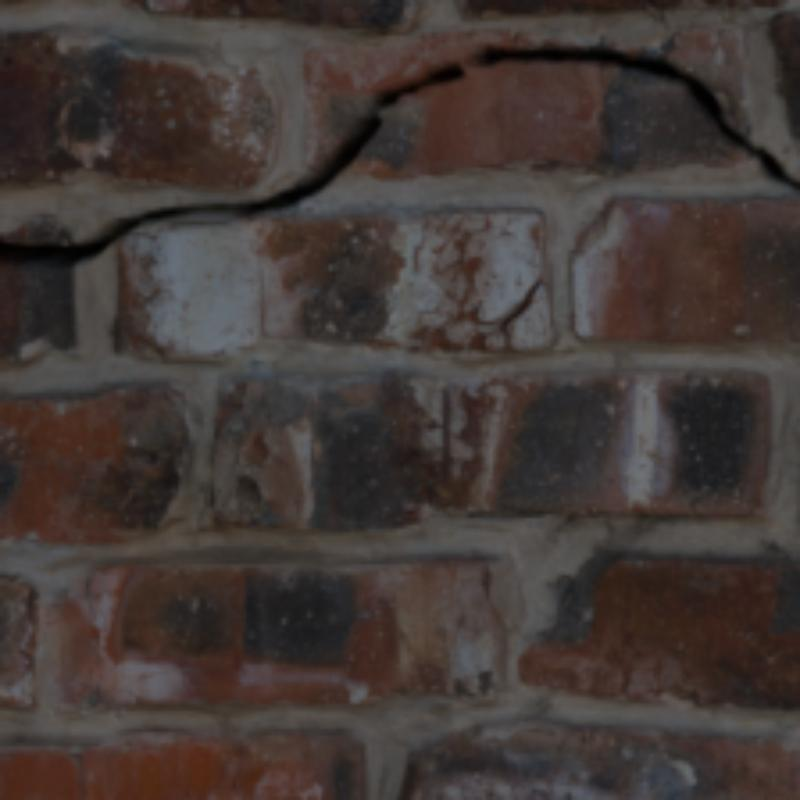pothole: (0, 43, 796, 268), (500, 282, 543, 346)
